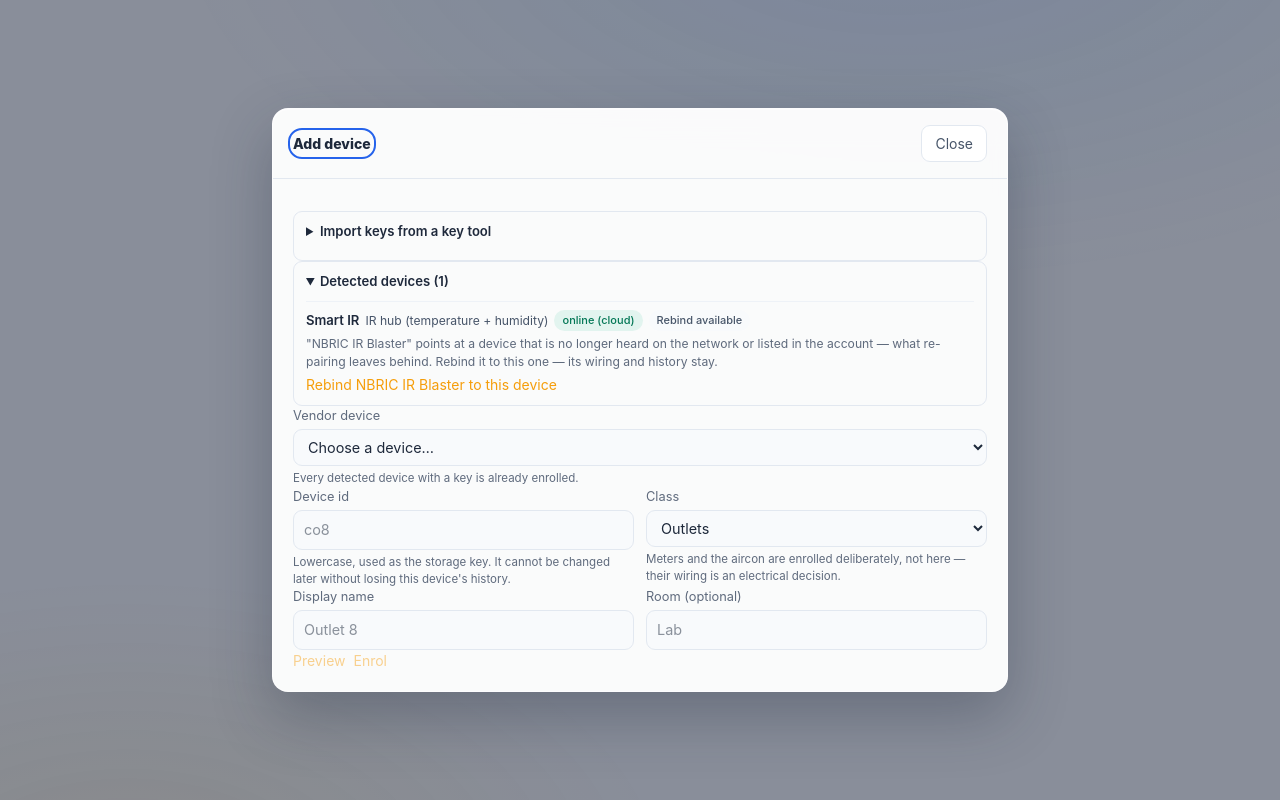
it: EnrollWizard — detected devices › offers a rebind when a node of the same kind lost its device, previews it, then confirms before writing
The width and height of the screenshot is (1280, 800).
Click the button "Rebind NBRIC IR Blaster to this device". click: click(431, 385)
box: [306, 374, 557, 395]
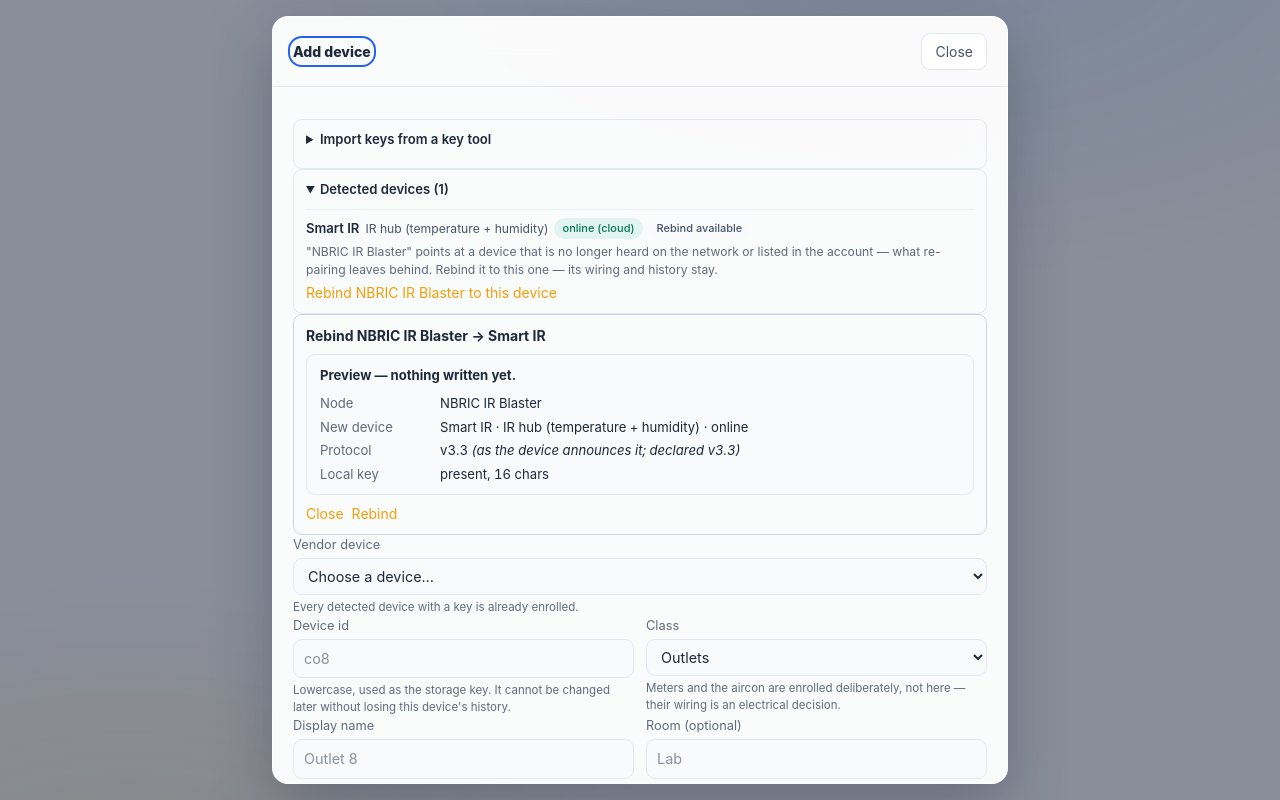
Expected: the text "present, 16 chars" is shown, [440, 466, 549, 482]
Expected: the message shows "v3.3 (as the device announces it; declared v3.3)", [306, 354, 974, 495]
Click the button "Rebind". click: click(374, 513)
box: [352, 503, 397, 524]
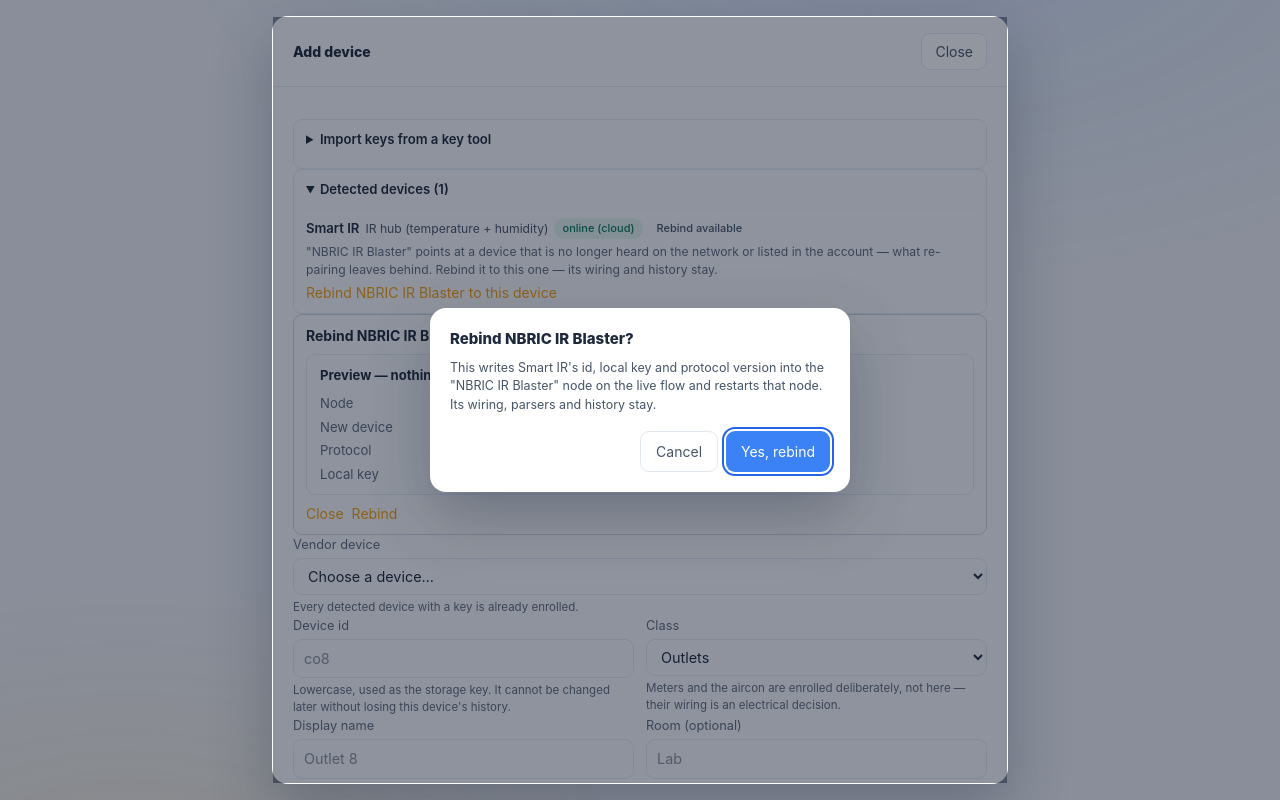
Click the button "Yes, rebind". click: click(778, 451)
box: [726, 431, 830, 472]
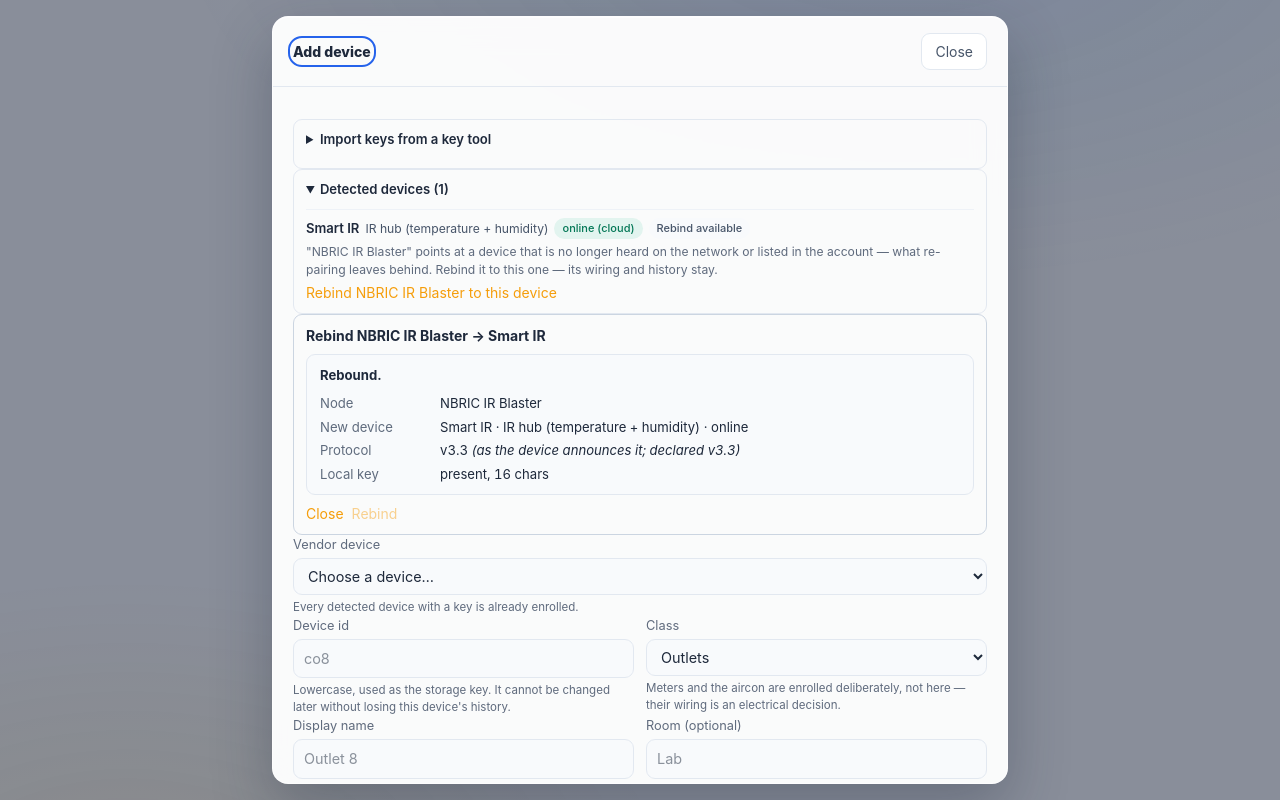
Expected: the text "Rebound." is shown, [320, 367, 382, 383]
